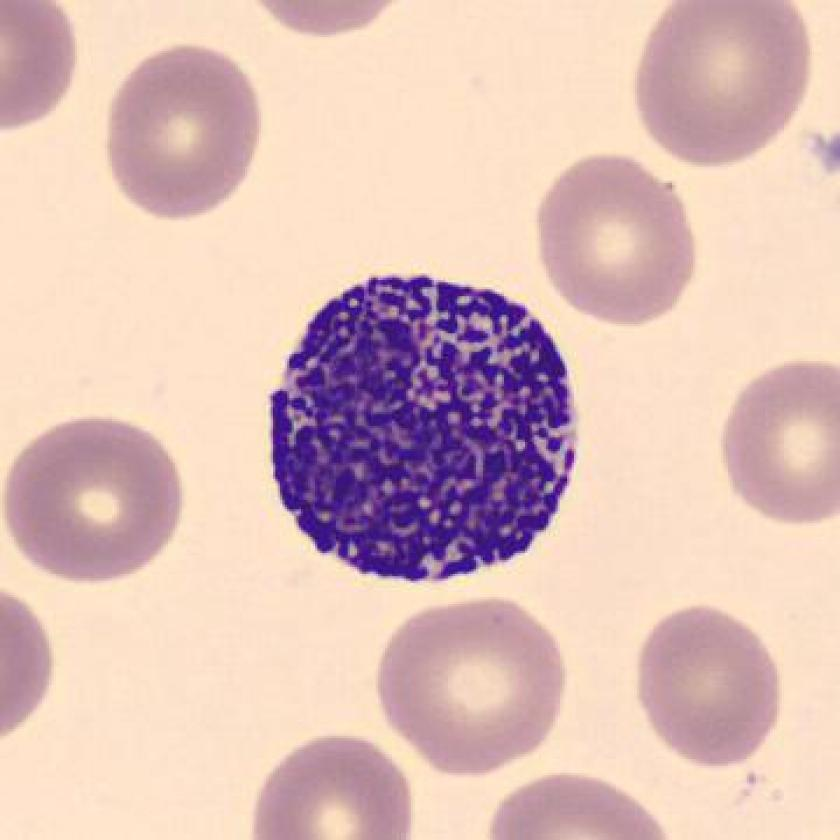basophil: (251, 258, 596, 589)
